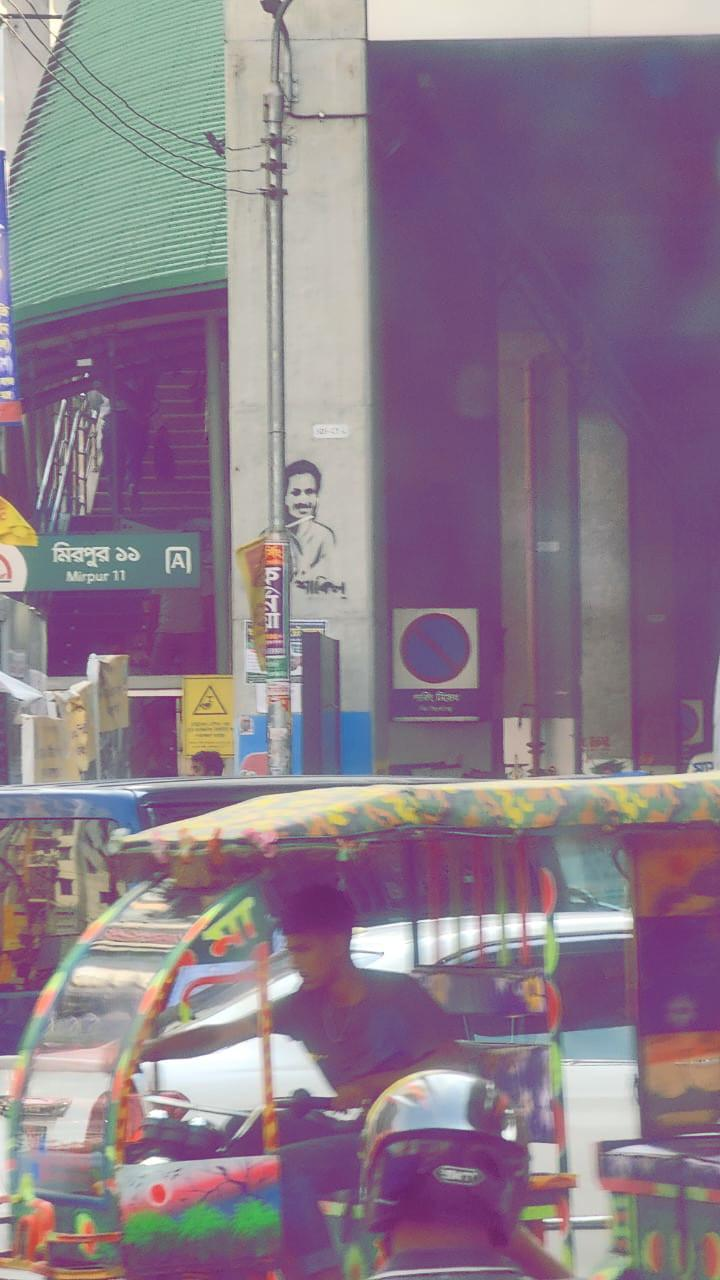No Parking: (388, 617, 482, 717)
